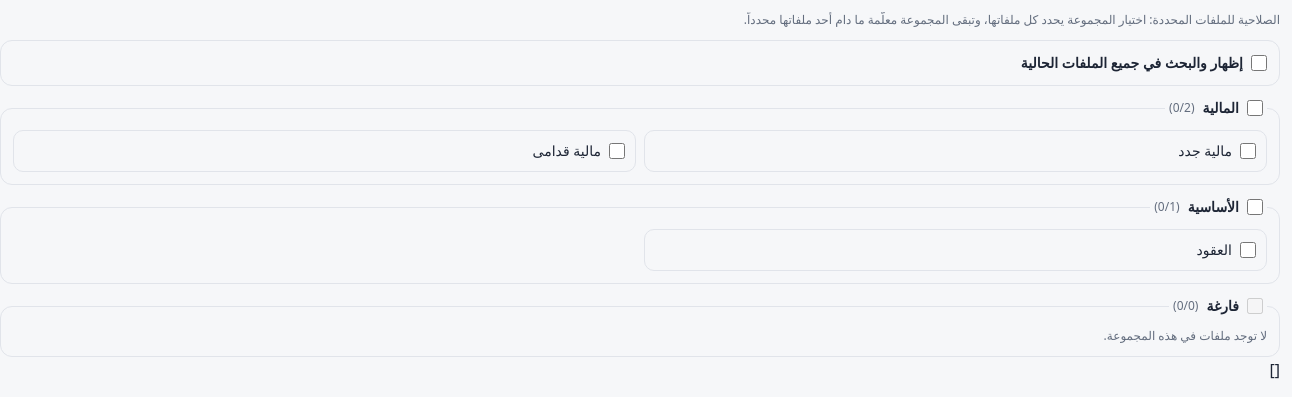
Test case: file-based permissions editor › checks parents of selected files without selecting siblings
Click the checkbox labelled "مالية جدد" at coordinates (1248, 151), box [1240,143,1256,159]
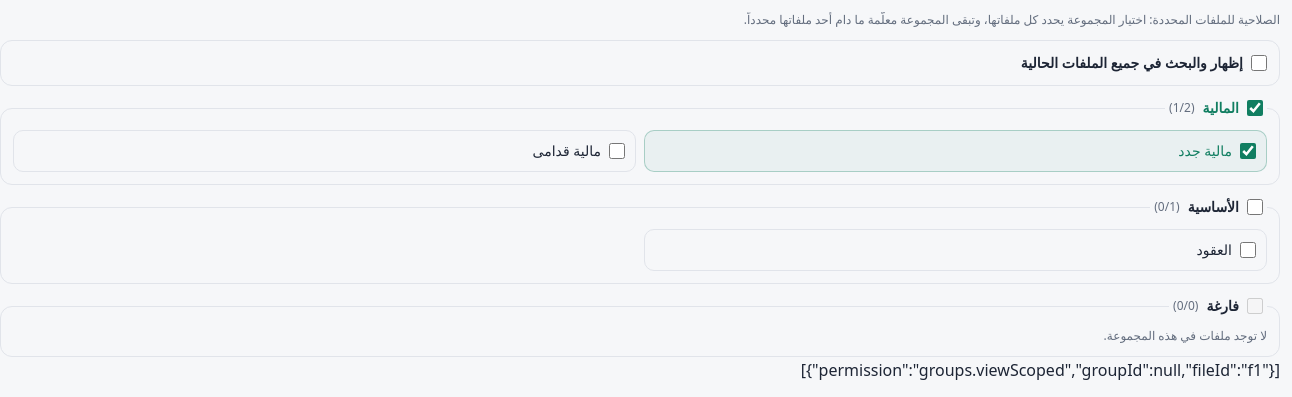
Click the checkbox labelled "العقود" at coordinates (1248, 250), box [1240,242,1256,258]
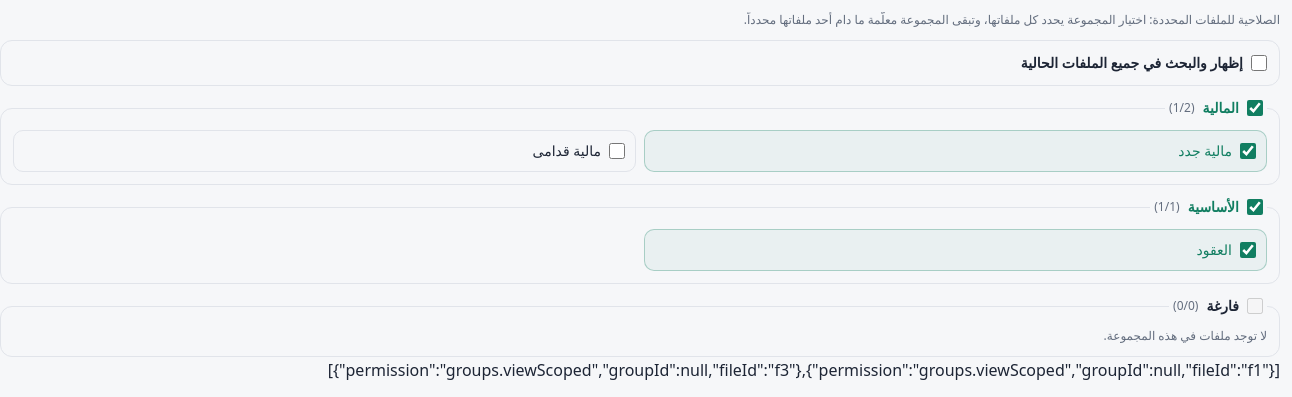
Expected: the checkbox labelled "مالية قدامى" is not checked, [609,143,625,159]
Result: the checkbox labelled "المالية (1/2)" is checked at [1247,100,1263,116]
Result: the checkbox labelled "الأساسية (1/1)" is checked at [1247,199,1263,215]
Click the checkbox labelled "مالية جدد" at coordinates (1248, 151), box [1240,143,1256,159]
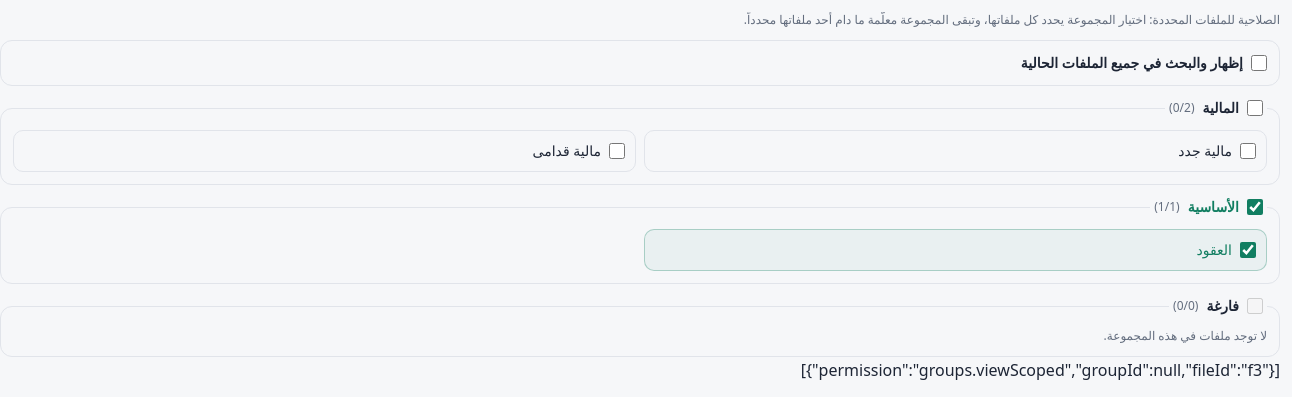
Result: the checkbox labelled "الأساسية (1/1)" is checked at [1247,199,1263,215]
Result: the checkbox labelled "المالية (0/2)" is not checked at [1247,100,1263,116]
